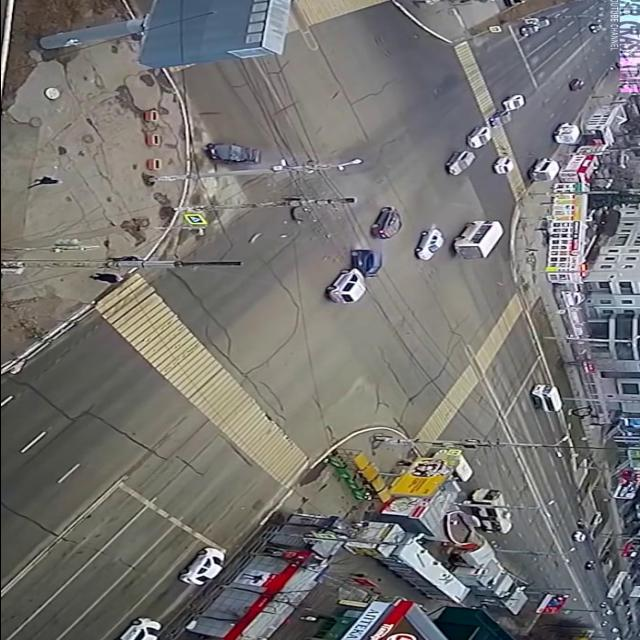accident: (320, 247, 384, 306), (197, 139, 295, 177)
non_accident: (437, 92, 531, 178)
